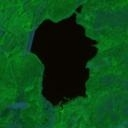alloviz: (29, 4, 98, 107)
